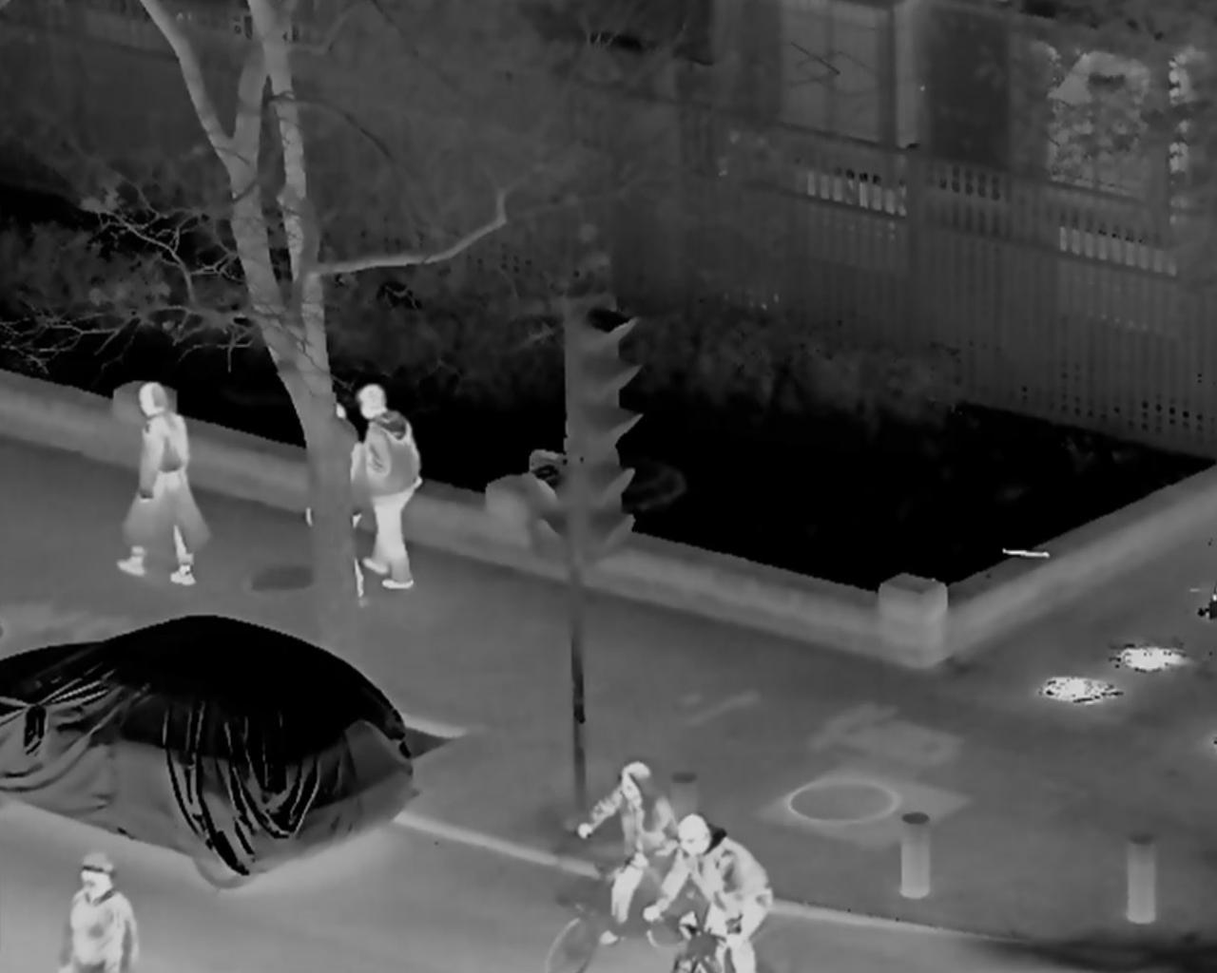person: (639, 820, 772, 973), (582, 767, 687, 956), (119, 382, 202, 594), (350, 381, 427, 596), (53, 859, 134, 973)
